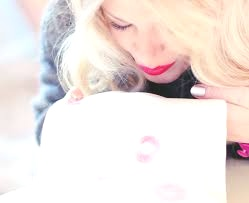lipstick: (131, 133, 165, 165), (86, 160, 123, 183), (154, 181, 186, 203)
